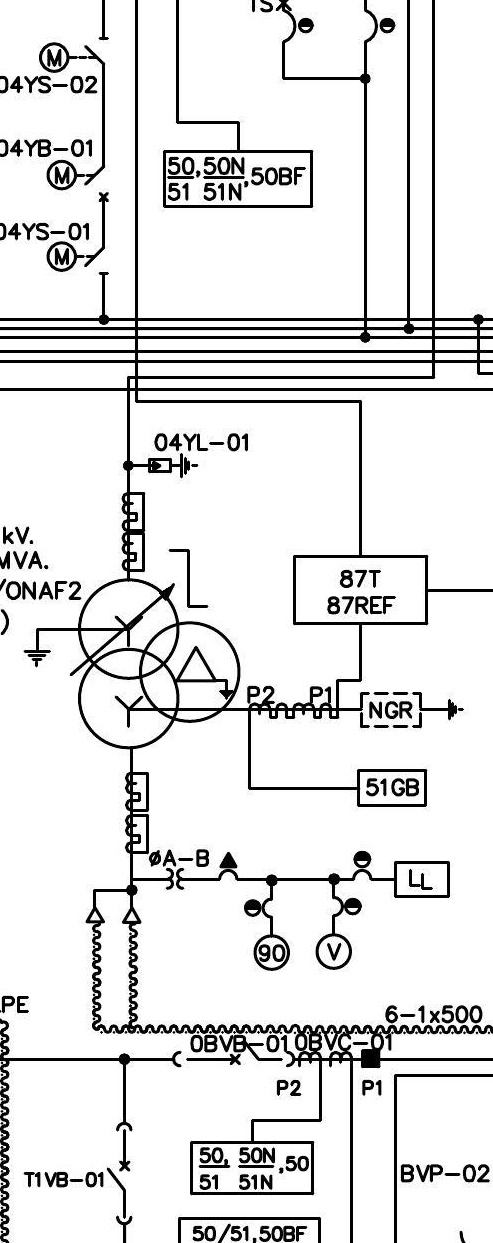11522_tx_ynyn0d1: (77, 577, 242, 751)
115_1way_ds_w_motor: (38, 36, 109, 74), (45, 240, 109, 275)
115_breaker: (83, 166, 110, 203)
115_la: (147, 452, 199, 479)
22_breaker: (171, 1041, 296, 1068), (106, 1122, 133, 1226)
LL: (393, 861, 451, 898)
NGR_future: (359, 692, 465, 729)
terminator_double: (85, 888, 142, 924)
v_m: (314, 932, 353, 971)
